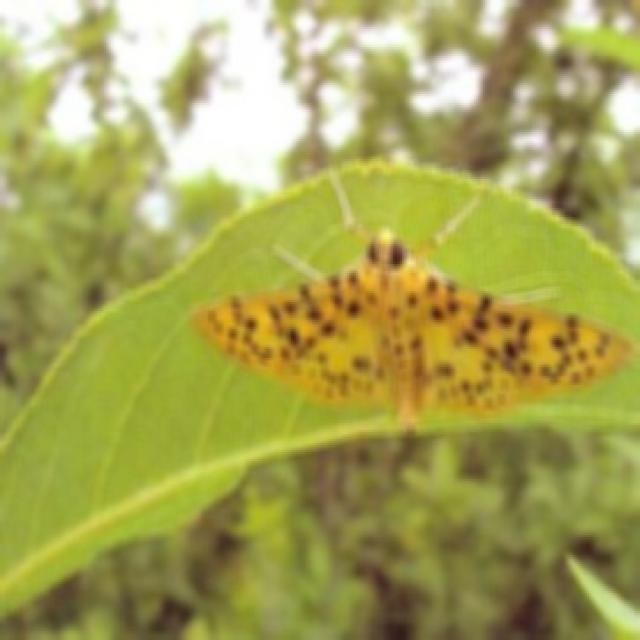peach borer: (191, 224, 637, 432)
